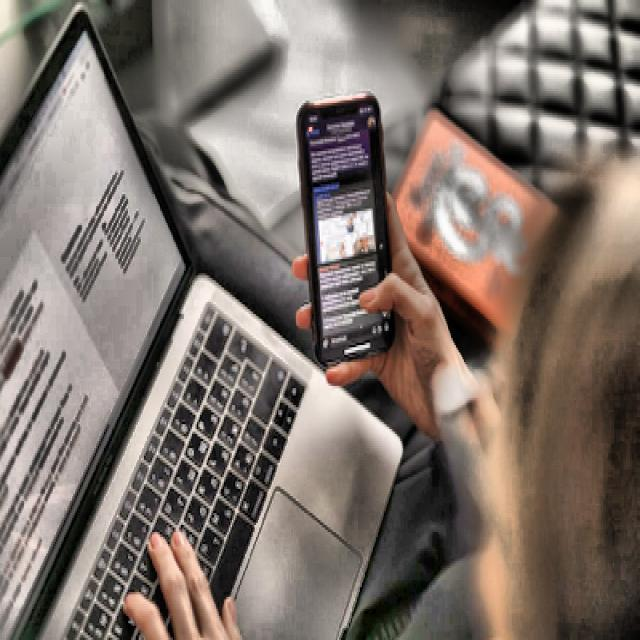Phone: (294, 93, 398, 377)
